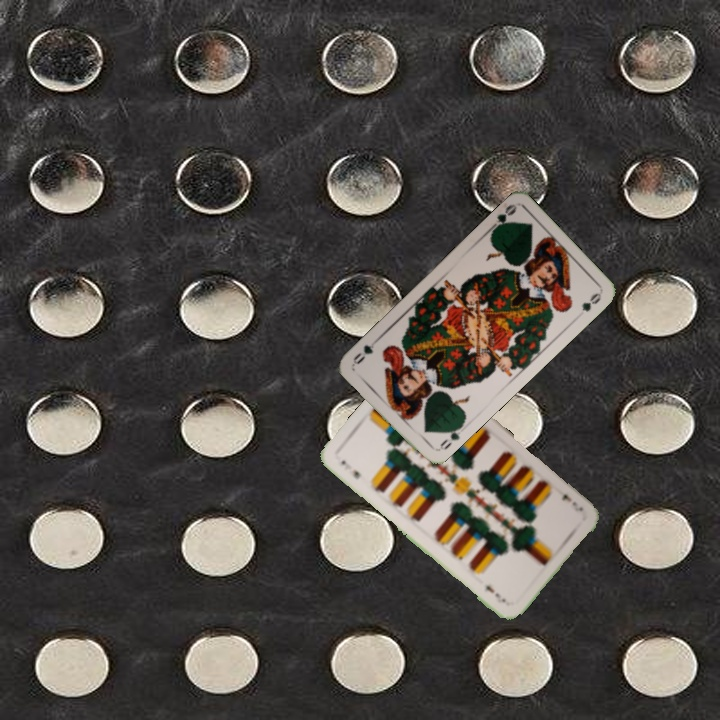E7: (337, 456, 363, 482), (558, 490, 586, 514)
GO: (484, 200, 518, 236), (432, 422, 466, 453)
